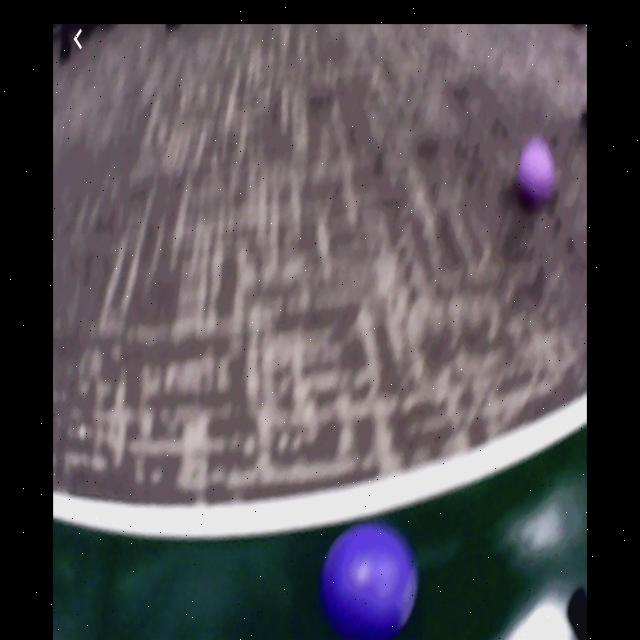ball: (326, 526, 417, 640), (521, 139, 555, 207)
